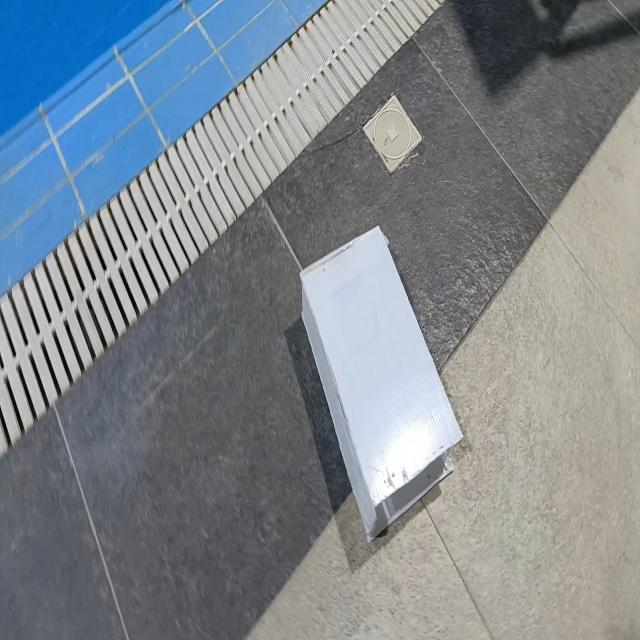Cuboid: (299, 223, 464, 542)
